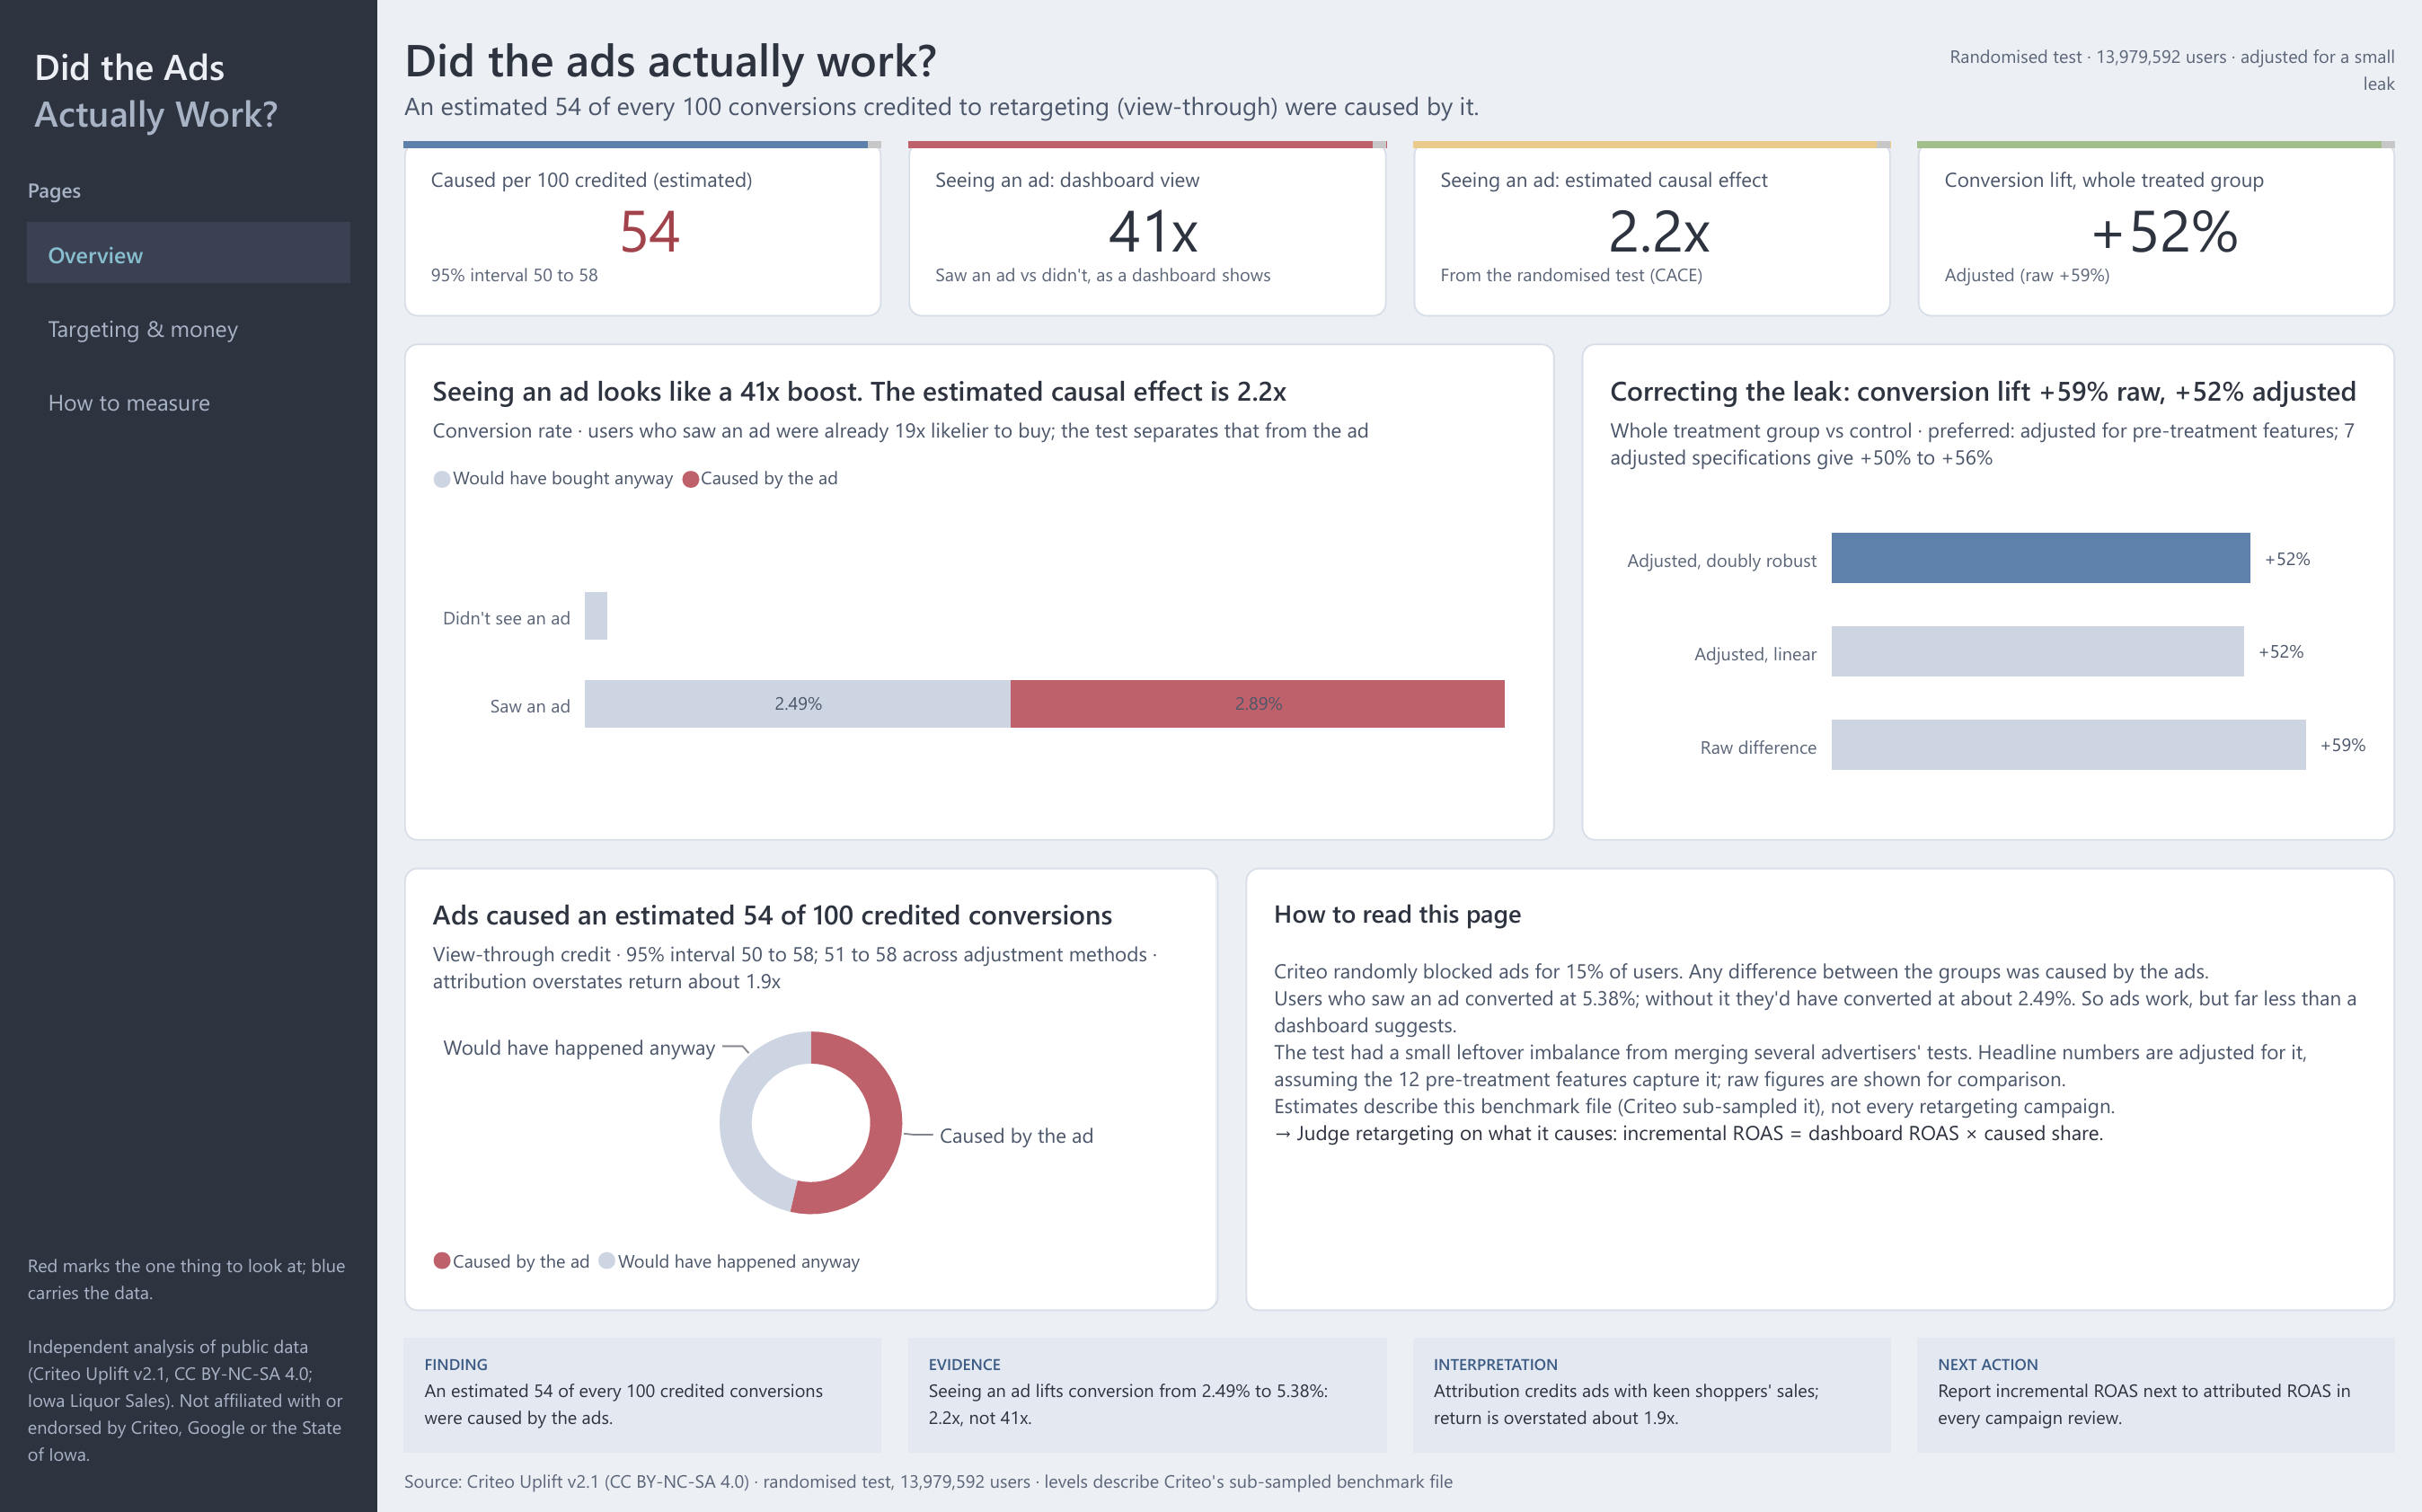

The dashboard page shown, as its layout file describes it:
{"tool":"powerbi","page":{"name":"Overview","canvas":[1440,900],"ordinal":0},"visuals":[{"type":"textbox","box":[0,0,224,900],"z":0},{"type":"textbox","box":[16,104,192,24],"z":100},{"type":"actionButton","box":[16,132,192,36],"z":200},{"type":"actionButton","box":[16,176,192,36],"z":300},{"type":"actionButton","box":[16,220,192,36],"z":400},{"type":"textbox","box":[16,744,192,140],"z":500},{"type":"textbox","box":[240,16,884,56],"z":600},{"type":"textbox","box":[1140,16,284,56],"z":700},{"type":"textbox","box":[240,84,284,104],"z":800},{"type":"textbox","box":[240,84,284,4],"z":900},{"type":"card","title":"Caused per 100 credited (estimated)","fields":{"Values":["_Measures.Caused per 100"]},"box":[240,90,284,64],"z":1000},{"type":"textbox","box":[240,154,284,28],"z":1100},{"type":"textbox","box":[540,84,284,104],"z":1200},{"type":"textbox","box":[540,84,284,4],"z":1300},{"type":"card","title":"Seeing an ad: dashboard view","fields":{"Values":["_Measures.Naive Multiple"]},"box":[540,90,284,64],"z":1400},{"type":"textbox","box":[540,154,284,28],"z":1500},{"type":"textbox","box":[840,84,284,104],"z":1600},{"type":"textbox","box":[840,84,284,4],"z":1700},{"type":"card","title":"Seeing an ad: estimated causal effect","fields":{"Values":["_Measures.Causal Multiple"]},"box":[840,90,284,64],"z":1800},{"type":"textbox","box":[840,154,284,28],"z":1900},{"type":"textbox","box":[1140,84,284,104],"z":2000},{"type":"textbox","box":[1140,84,284,4],"z":2100},{"type":"card","title":"Conversion lift, whole treated group","fields":{"Values":["_Measures.Conversion Lift Adjusted"]},"box":[1140,90,284,64],"z":2200},{"type":"textbox","box":[1140,154,284,28],"z":2300},{"type":"barChart","title":"Seeing an ad looks like a 41x boost. The estimated causal effect is 2.2x","fields":{"Category":["naive_vs_caused.group"],"Y":["_Measures.Rate Without Ad Effect","_Measures.Rate Caused by Ad"]},"box":[240,204,684,296],"z":2400},{"type":"clusteredBarChart","title":"Correcting the leak: conversion lift +59% raw, +52% adjusted","fields":{"Category":["lift_estimates.estimate"],"Y":["_Measures.Conversion Lift"]},"box":[940,204,484,296],"z":2500},{"type":"donutChart","title":"Ads caused an estimated 54 of 100 credited conversions","fields":{"Y":["_Measures.Caused per 100","_Measures.Anyway per 100"]},"box":[240,516,484,264],"z":2600},{"type":"textbox","box":[740,516,684,264],"z":2700},{"type":"textbox","box":[240,796,284,68],"z":2800},{"type":"textbox","box":[540,796,284,68],"z":2900},{"type":"textbox","box":[840,796,284,68],"z":3000},{"type":"textbox","box":[1140,796,284,68],"z":3100},{"type":"textbox","box":[240,872,1184,20],"z":3200}]}

Visuals, with their boxes on the page's 1440x900 design canvas (x1, y1, x2, y2). These are canvas units, not pixel positions in the 2422x1512 screenshot, which may show the page scaled, cropped or inside an application window:
textbox: detection(0, 0, 224, 900)
textbox: detection(16, 104, 208, 128)
actionButton: detection(16, 132, 208, 168)
actionButton: detection(16, 176, 208, 212)
actionButton: detection(16, 220, 208, 256)
textbox: detection(16, 744, 208, 884)
textbox: detection(240, 16, 1124, 72)
textbox: detection(1140, 16, 1424, 72)
textbox: detection(240, 84, 524, 188)
textbox: detection(240, 84, 524, 88)
"Caused per 100 credited (estimated)" card: detection(240, 90, 524, 154)
textbox: detection(240, 154, 524, 182)
textbox: detection(540, 84, 824, 188)
textbox: detection(540, 84, 824, 88)
"Seeing an ad: dashboard view" card: detection(540, 90, 824, 154)
textbox: detection(540, 154, 824, 182)
textbox: detection(840, 84, 1124, 188)
textbox: detection(840, 84, 1124, 88)
"Seeing an ad: estimated causal effect" card: detection(840, 90, 1124, 154)
textbox: detection(840, 154, 1124, 182)
textbox: detection(1140, 84, 1424, 188)
textbox: detection(1140, 84, 1424, 88)
"Conversion lift, whole treated group" card: detection(1140, 90, 1424, 154)
textbox: detection(1140, 154, 1424, 182)
"Seeing an ad looks like a 41x boost. The estimated causal effect is 2.2x" barChart: detection(240, 204, 924, 500)
"Correcting the leak: conversion lift +59% raw, +52% adjusted" clusteredBarChart: detection(940, 204, 1424, 500)
"Ads caused an estimated 54 of 100 credited conversions" donutChart: detection(240, 516, 724, 780)
textbox: detection(740, 516, 1424, 780)
textbox: detection(240, 796, 524, 864)
textbox: detection(540, 796, 824, 864)
textbox: detection(840, 796, 1124, 864)
textbox: detection(1140, 796, 1424, 864)
textbox: detection(240, 872, 1424, 892)
